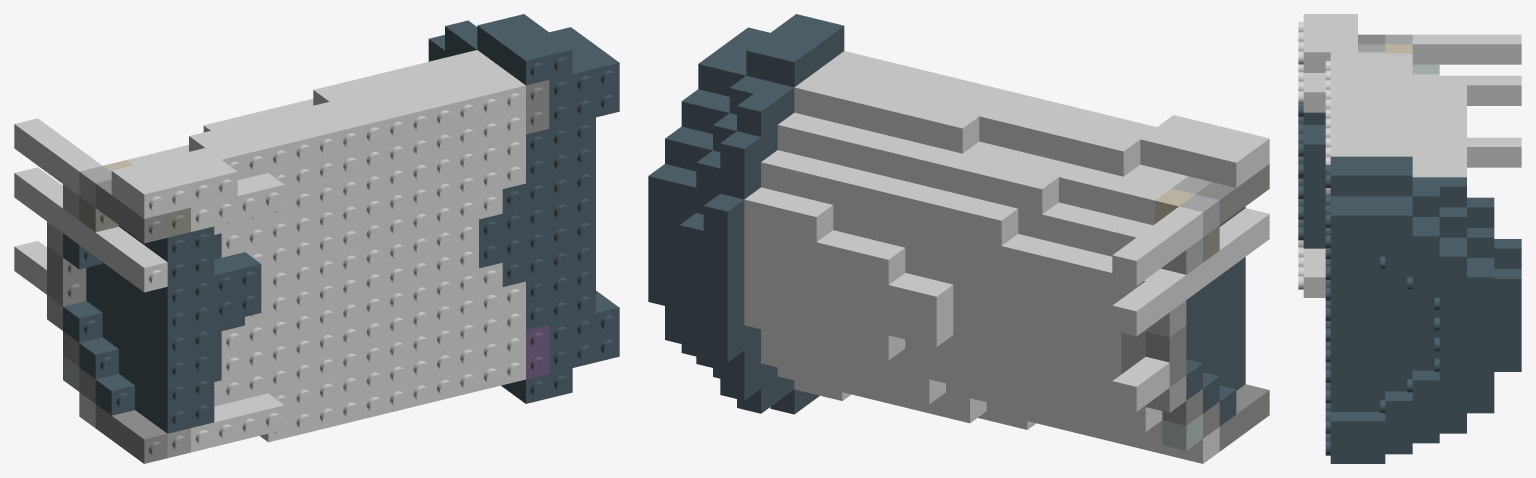
The model's file is full.glb.
The picture shows the model from 3 angles, left to right: view 1: azimuth 30°, elevation 25°; view 2: azimuth 150°, elevation 25°; view 3: azimuth 270°, elevation 25°; orthographic projection. The views are drawn at different scales.
Visible parts, largest first — view 1: world; view 2: world; view 3: world.
Boxes of the visible parts, x1,y1,x2,y2 form: world: (14, 14, 619, 463); world: (648, 14, 1269, 463); world: (1298, 14, 1521, 463).
Bounding box in the file's own units: 168 × 112 × 78.6.
